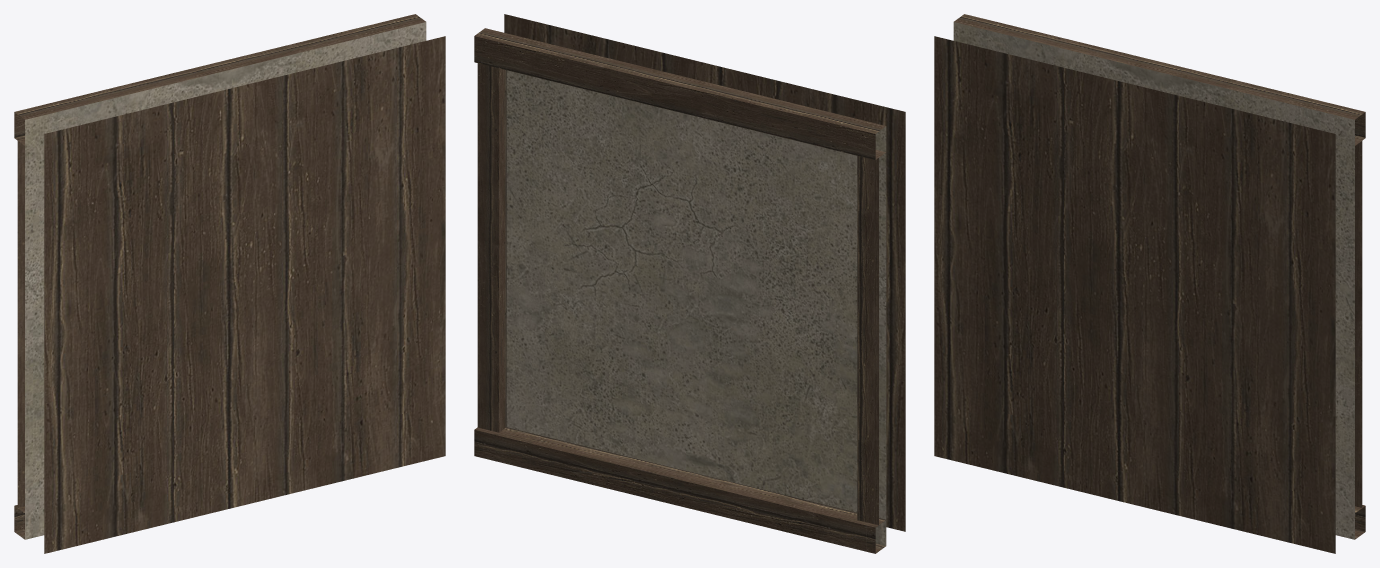
File: ARC1010255.fbx
The picture shows the model from 3 angles, left to right: view 1: azimuth 30°, elevation 25°; view 2: azimuth 150°, elevation 25°; view 3: azimuth 330°, elevation 25°; orthographic projection.
Visible parts, largest first — view 1: smARC1010255; view 2: smARC1010255; view 3: smARC1010255.
Boxes of the visible parts, x1,y1,x2,y2 form: smARC1010255: (14, 14, 445, 553); smARC1010255: (474, 14, 905, 553); smARC1010255: (934, 14, 1365, 553).
Size of the model in its own units: 268 by 268 by 34.9.
1 material, 1 textured.
